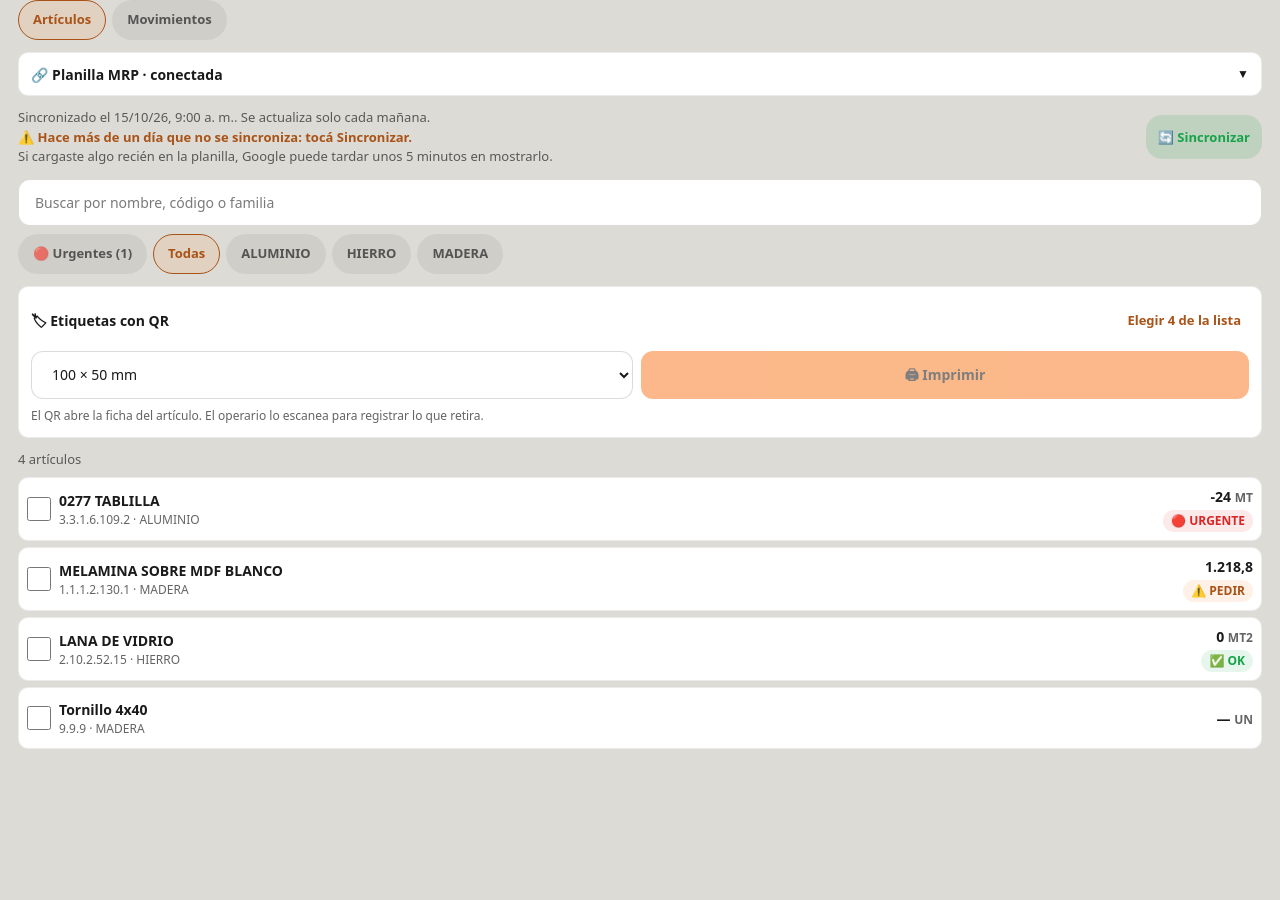
Scenario: pantalla Stock — lista con semáforo, búsqueda, urgentes y ficha
expect the text "4 artículos" is shown: met, box [18,450,81,468]
expect the button "🔴 Urgentes (1)" is shown: met, box [18,234,147,274]
Step 1. Type "lana" into the search field named "Buscar artículo" → [640, 202], box [18,178,1262,226]
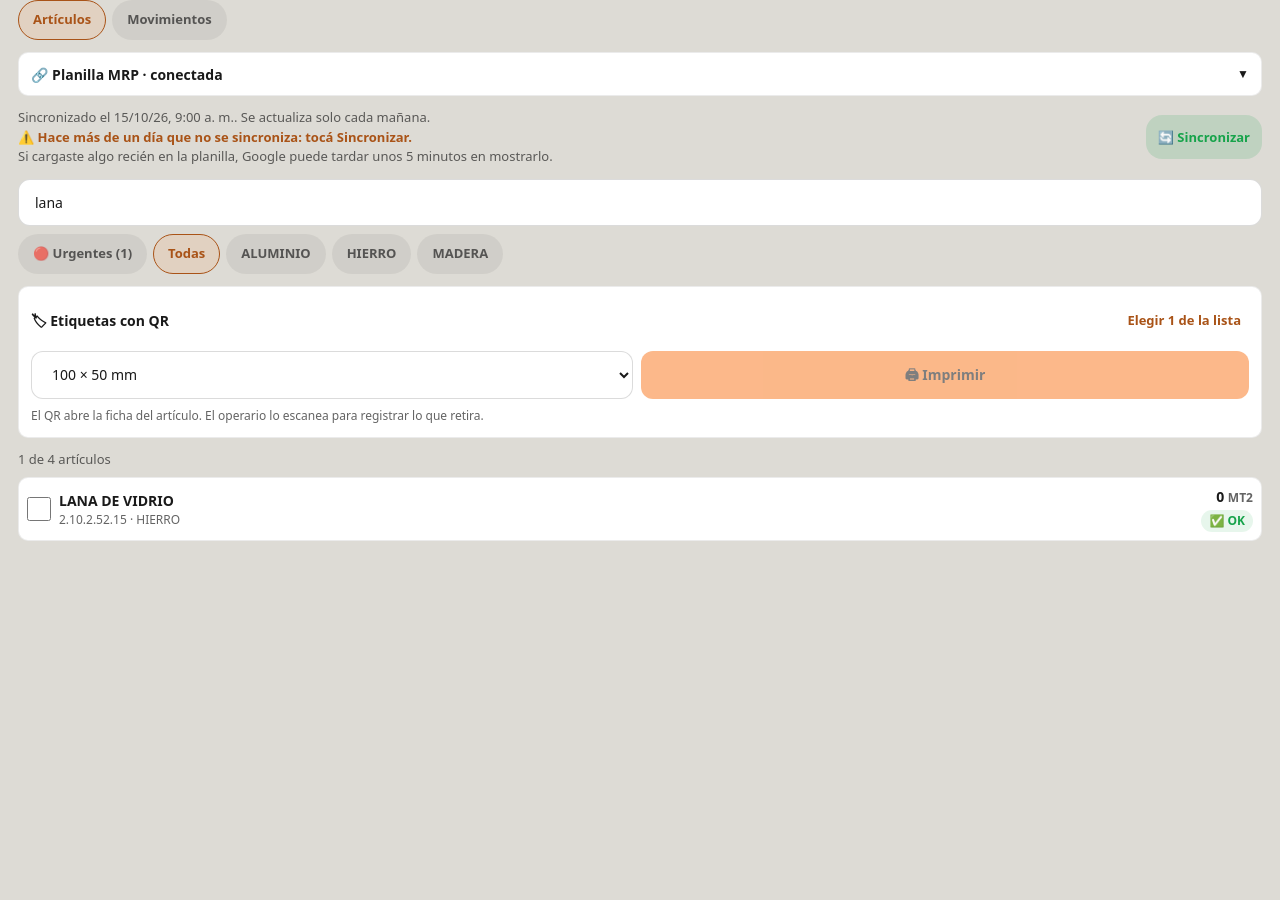
expect the text "1 de 4 artículos" is shown: met, box [18,450,111,468]
Step 2. Click the text "LANA DE VIDRIO" → [116, 500], box [59,490,174,510]
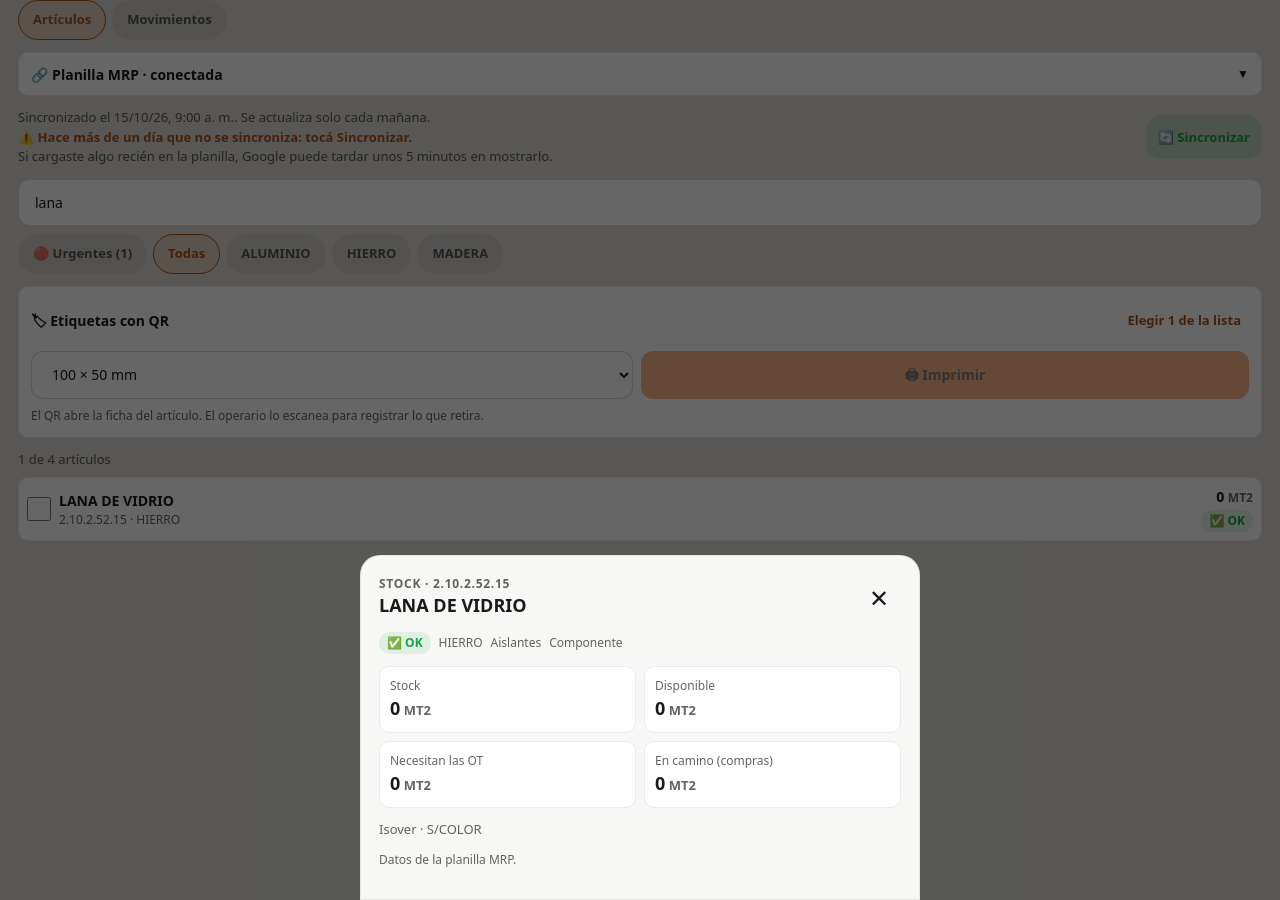
expect the dialog named "Artículo 2.10.2.52.15" is shown: met
expect the text "Necesitan las OT" is shown: met, box [390,752,483,768]
